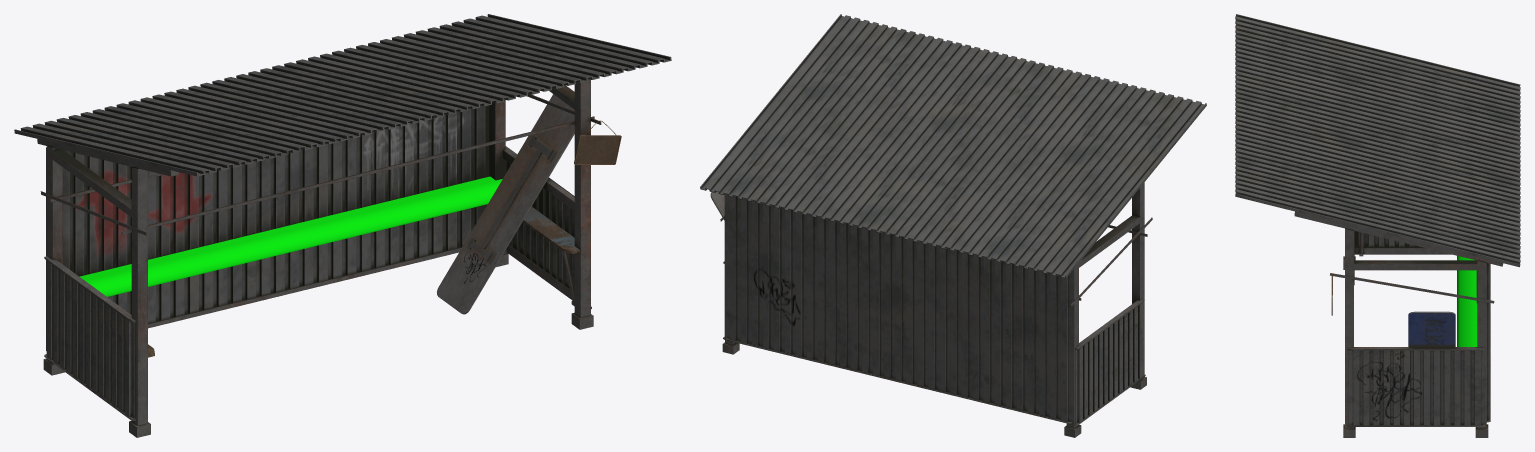
File: Abandoned_Bus_Station.fbx
The picture shows the model from 3 angles, left to right: view 1: azimuth 30°, elevation 25°; view 2: azimuth 150°, elevation 25°; view 3: azimuth 270°, elevation 25°; orthographic projection. The views are drawn at different scales.
Visible parts, largest first — view 1: 001; view 2: 001; view 3: 001.
Part boxes in pixels (box(x1,y1,x2,y2)): 001: box(14, 14, 671, 437); 001: box(700, 14, 1206, 437); 001: box(1235, 14, 1520, 437).
Bounding box in the file's own units: 890 × 535 × 559.
